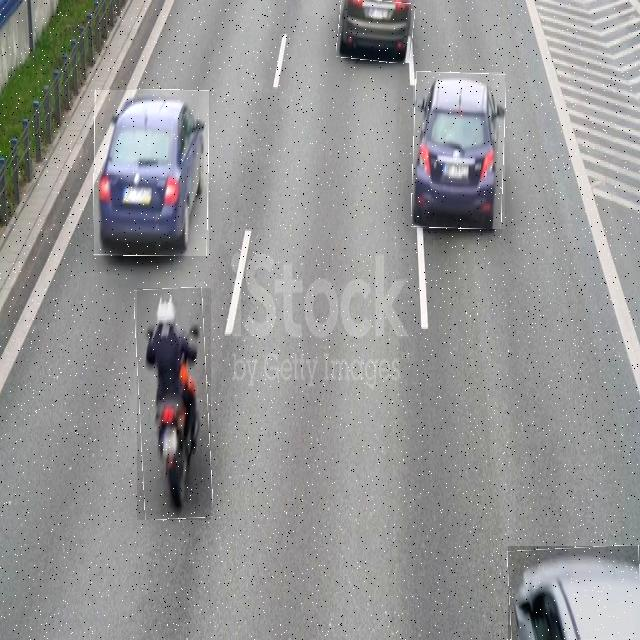Car: (94, 90, 209, 256), (413, 72, 505, 229), (508, 546, 640, 640), (337, 0, 414, 61)
Motorcycle: (137, 288, 211, 520)
